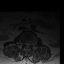CCS_normal: (26, 41, 28, 49)
LFS_severe_stenosis: (30, 41, 32, 46)
LLS_normal: (28, 41, 30, 46)
RFS_stenosis: (22, 41, 24, 45)
RLS_stenosis: (24, 41, 26, 46)
